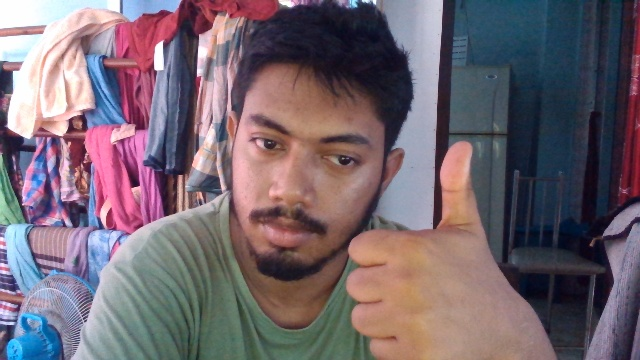yes: (347, 138, 520, 360)
